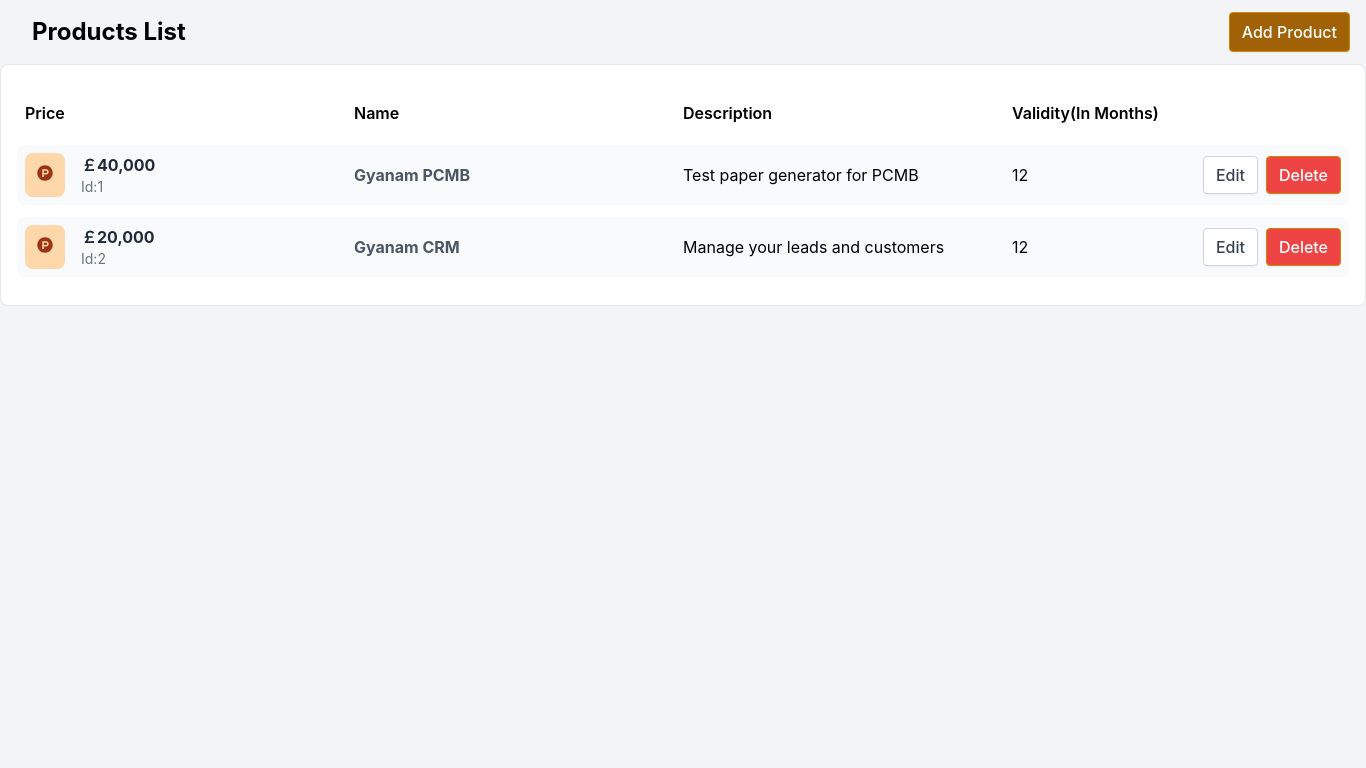
Test: ProductsList Component › should display add product modal & submit button when Add Product button is clicked
The width and height of the screenshot is (1366, 768).
Click the button "Add Product" at (1289, 32), box left=1229, top=12, right=1350, bottom=52
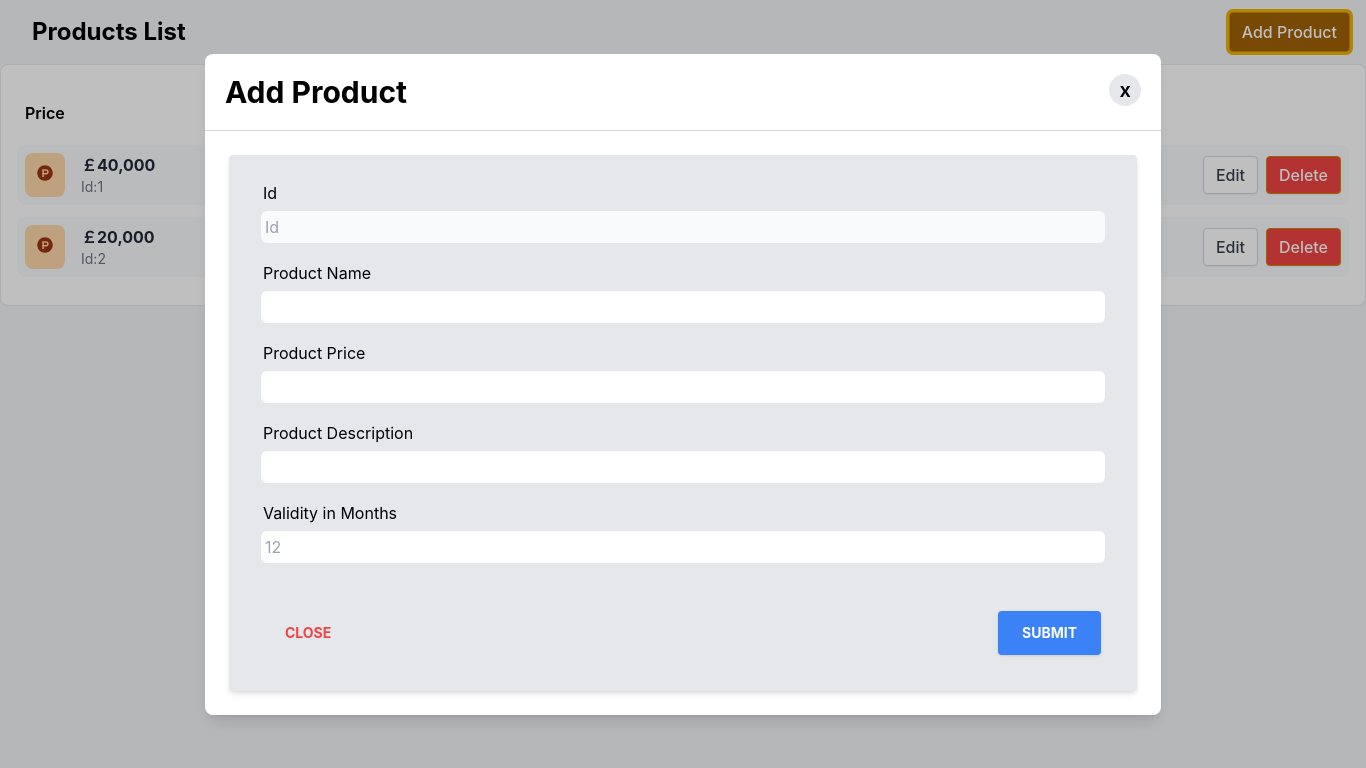
Result: the heading "Add Product" is shown at left=225, top=74, right=407, bottom=110
Result: the button "Submit" is shown at left=998, top=610, right=1101, bottom=654
